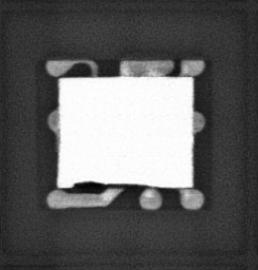DIE_BROKEN: (71, 178, 153, 190)
